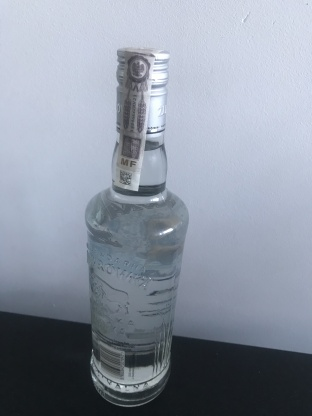nakretka: (113, 43, 172, 141)
